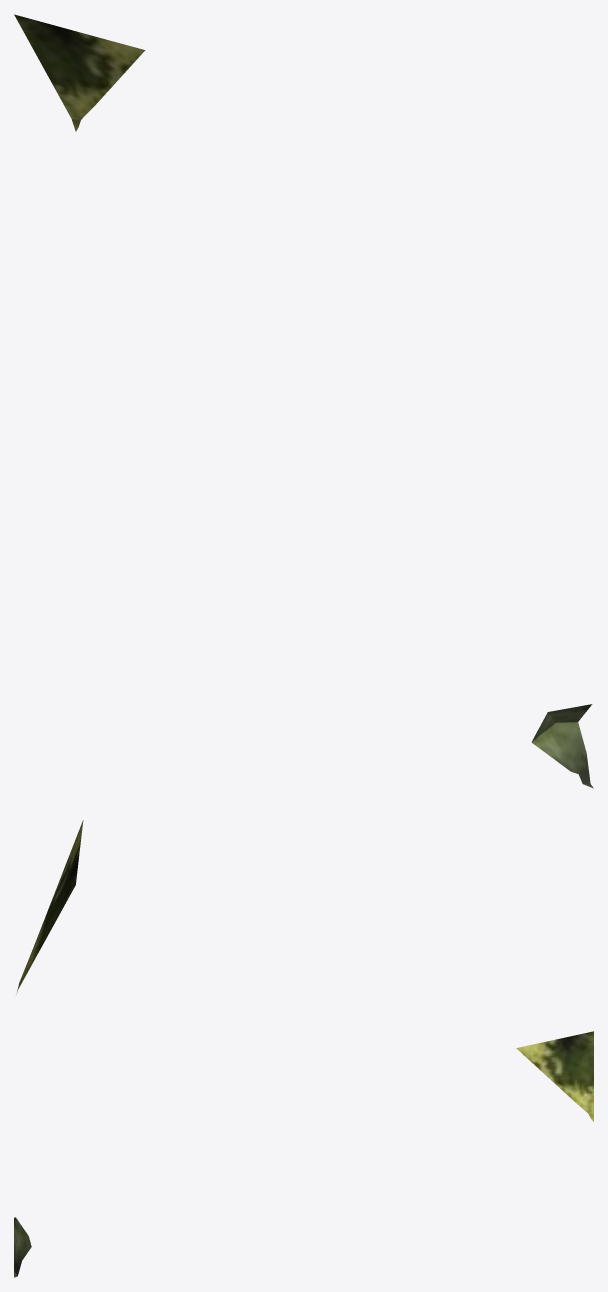
The picture shows the model from 3 angles, top to bottom: view 1: azimuth 30°, elevation 25°; view 2: azimuth 150°, elevation 25°; view 3: azimuth 270°, elevation 25°; orthographic projection. The views are drawn at different scales.
Bounding box in the file's own units: 0.4108 × 2.58 × 5.9.
Materials: 1 (1 with a texture image).
